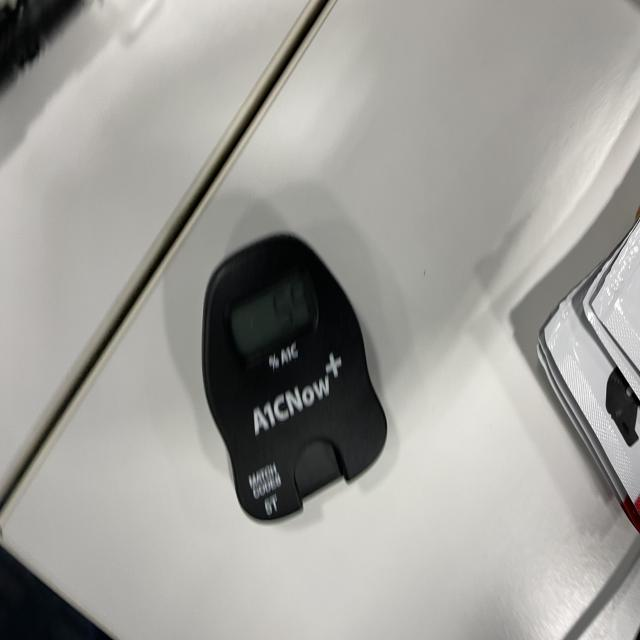hba1c: (198, 232, 392, 524)
